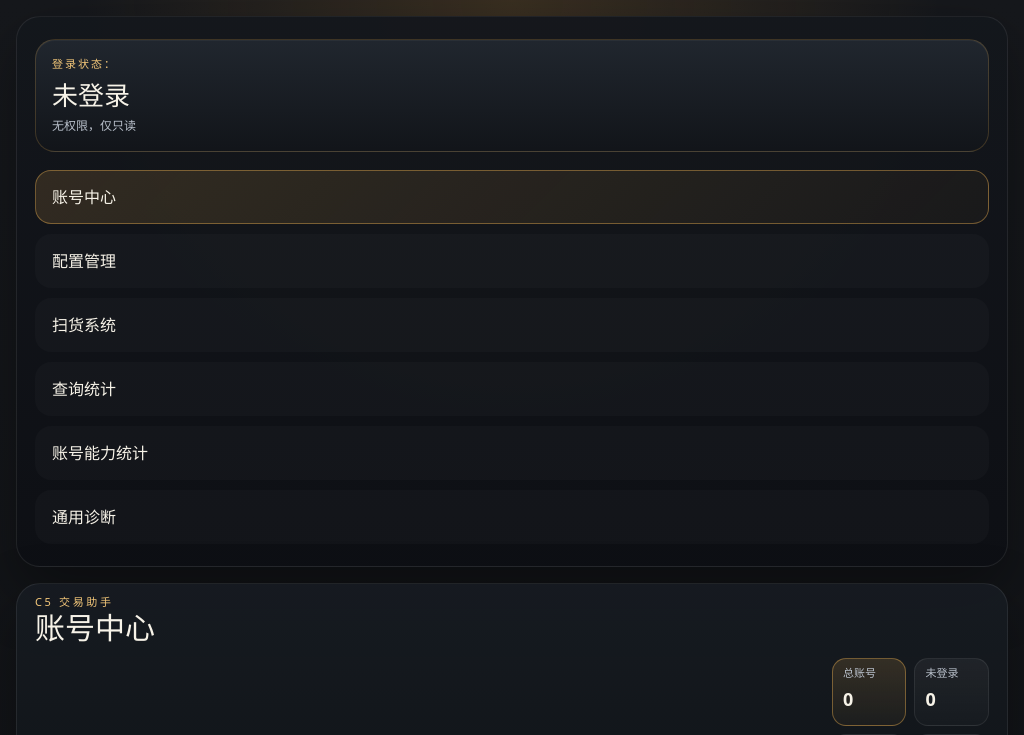
Test: account capability stats page › auto refreshes account capability stats after the picker closes with a changed date
What coordinates should you click on to do the following:
click the button "账号能力统计"
I would click on:
 (100, 453)
Its box is top-left (35, 426), bottom-right (989, 480).
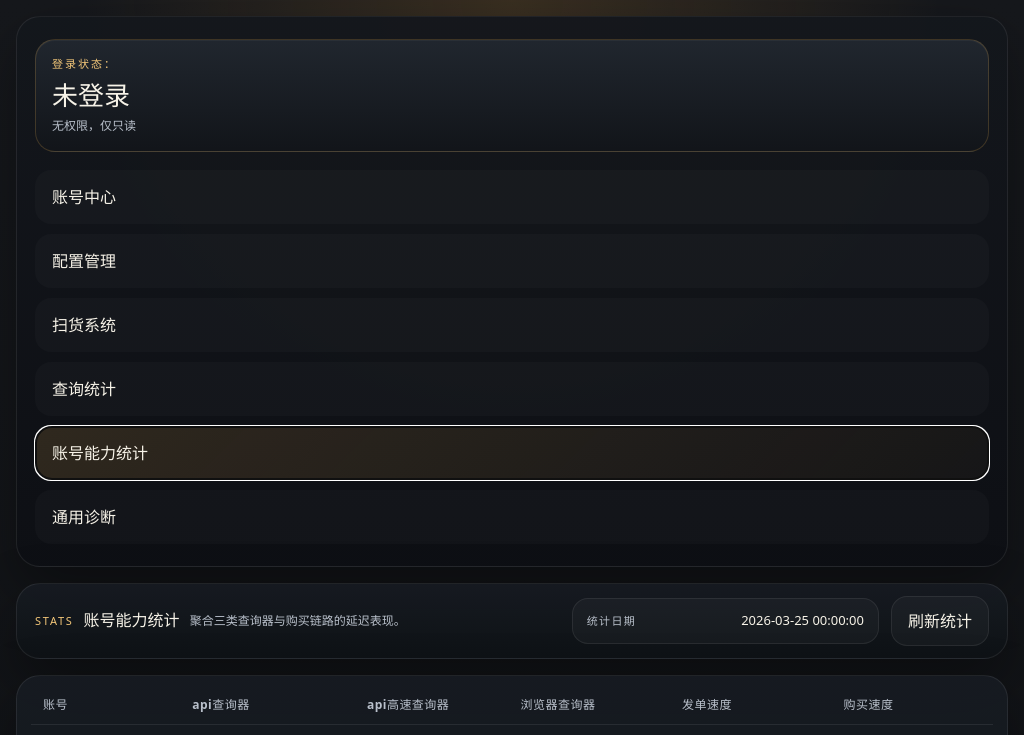
What coordinates should you click on to do the following:
click the button with aria-label "打开统计时间选择"
I would click on:
 (611, 620)
Its box is top-left (572, 598), bottom-right (879, 644).
(page scrolled)
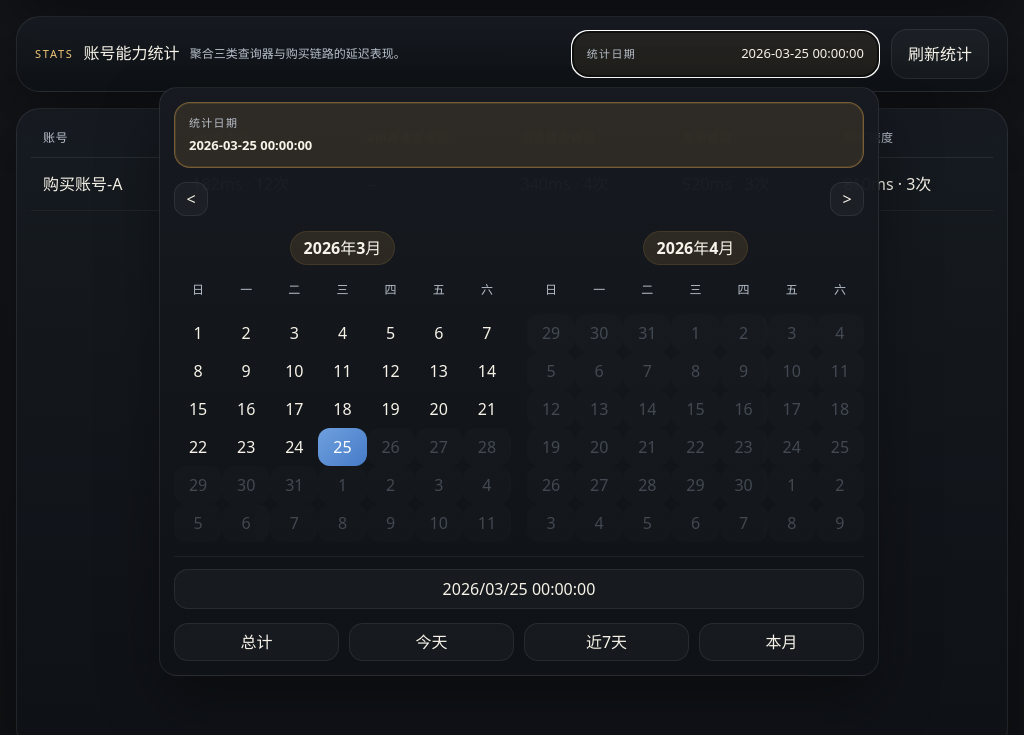
Check: the dialog named "选择统计日期" is shown, box top-left (159, 87), bottom-right (879, 676)
What coordinates should you click on to do the following:
click the button named "选择日期 2026-03-21"
I would click on:
 (487, 409)
Its box is top-left (463, 390), bottom-right (511, 428).
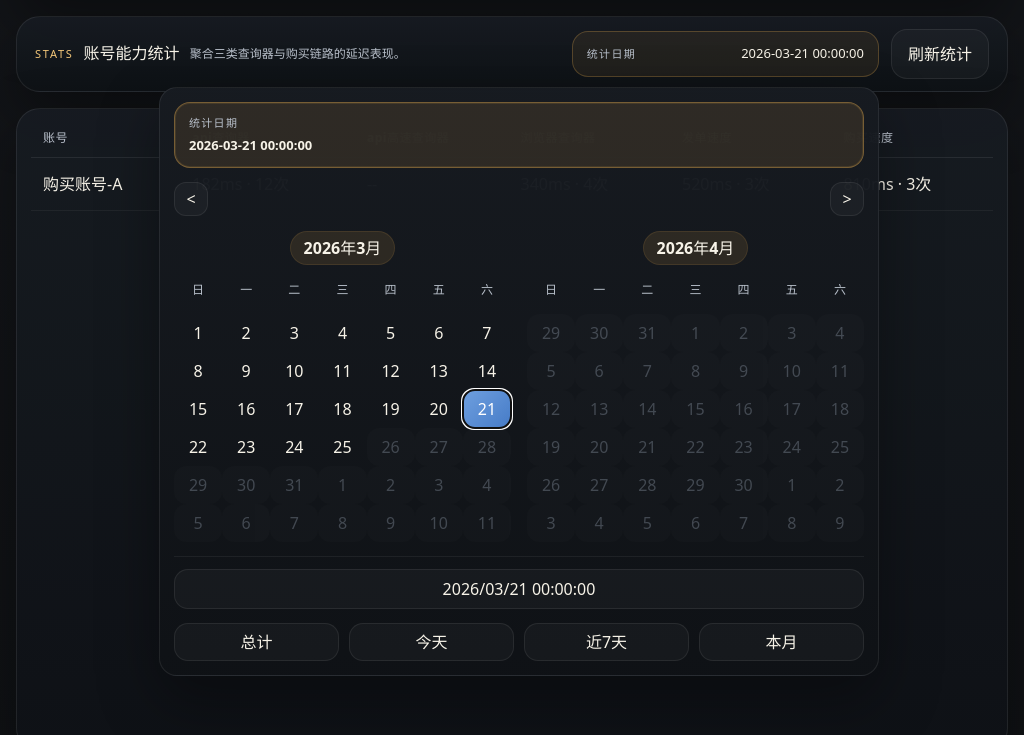
What coordinates should you click on to do the following:
click the text "聚合三类查询器与购买链路的延迟表现。"
I would click on:
 (298, 54)
Its box is top-left (190, 46), bottom-right (406, 62).
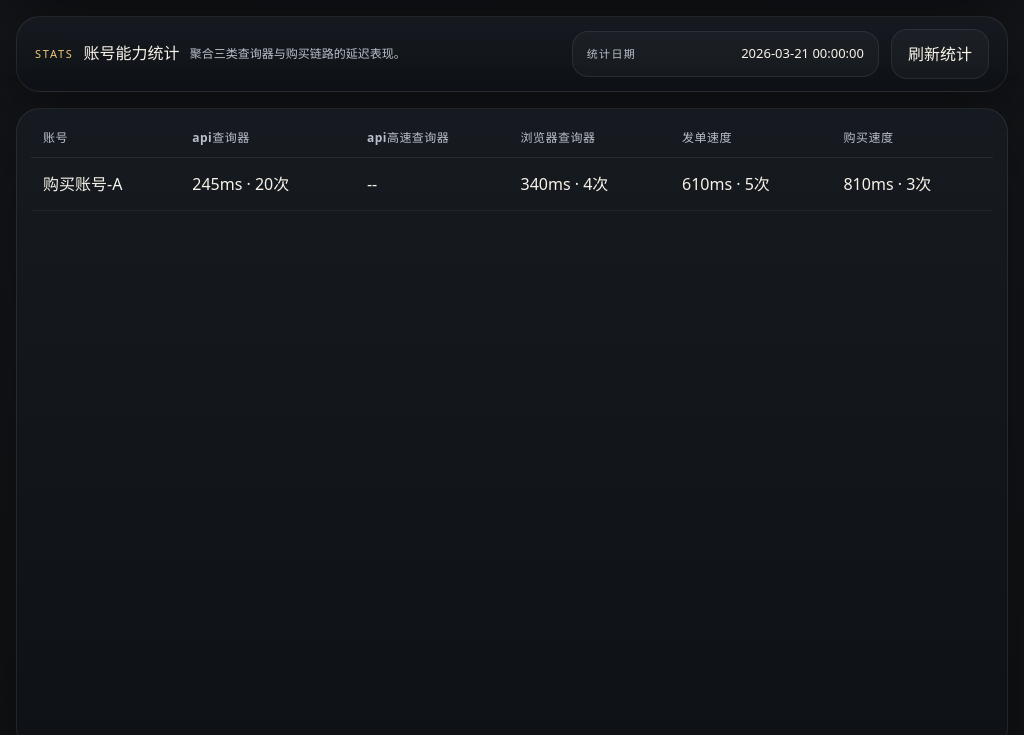
Check: the dialog "选择统计日期" is gone
Check: the text "245ms · 20次" is shown, box top-left (180, 158), bottom-right (355, 211)
Check: the text "610ms · 5次" is shown, box top-left (670, 158), bottom-right (832, 211)
